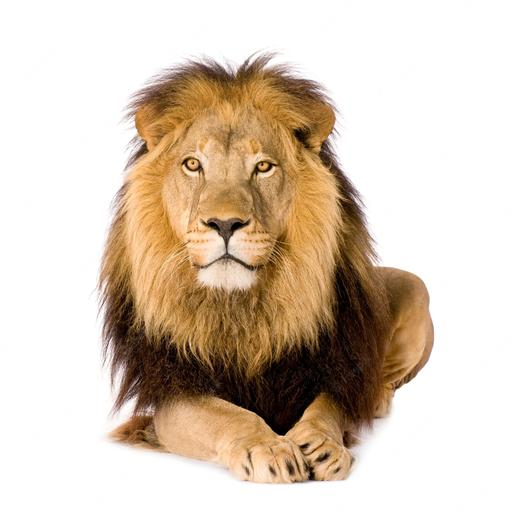Lion: (83, 40, 443, 490)
